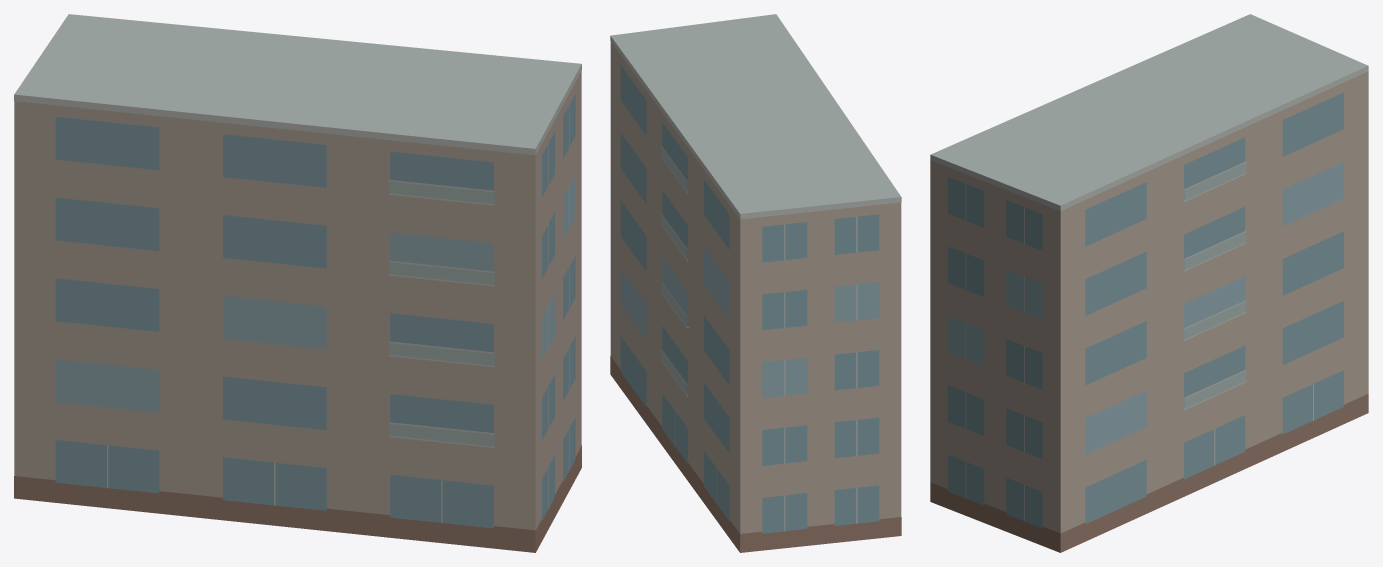
Rendered from survey-upis-32567867.glb.
The picture shows the model from 3 angles, left to right: view 1: azimuth 30°, elevation 25°; view 2: azimuth 150°, elevation 25°; view 3: azimuth 270°, elevation 25°; orthographic projection. The views are drawn at different scales.
Visible parts, largest first — view 1: survey-upis-32567867.tmp; view 2: survey-upis-32567867.tmp; view 3: survey-upis-32567867.tmp.
Boxes of the visible parts, bbox=[...] form: survey-upis-32567867.tmp: bbox=[14, 14, 581, 552]; survey-upis-32567867.tmp: bbox=[610, 14, 901, 552]; survey-upis-32567867.tmp: bbox=[930, 14, 1368, 552].
Size of the model in its own units: 18.07 by 15.25 by 17.46.
